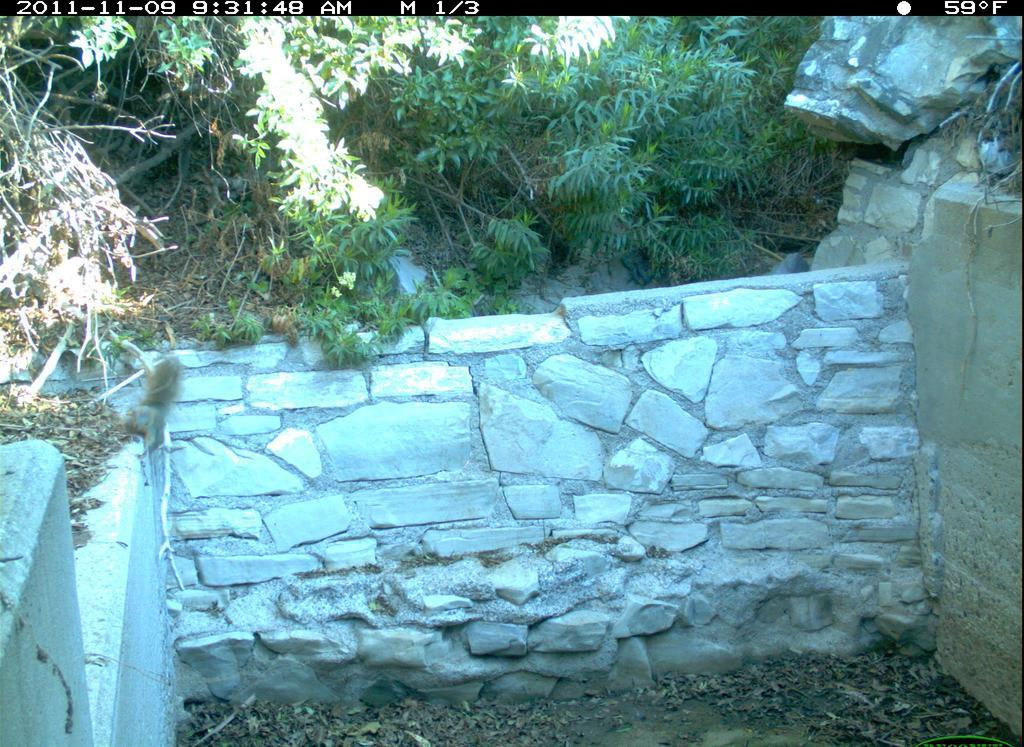squirrel: (121, 351, 184, 458)
